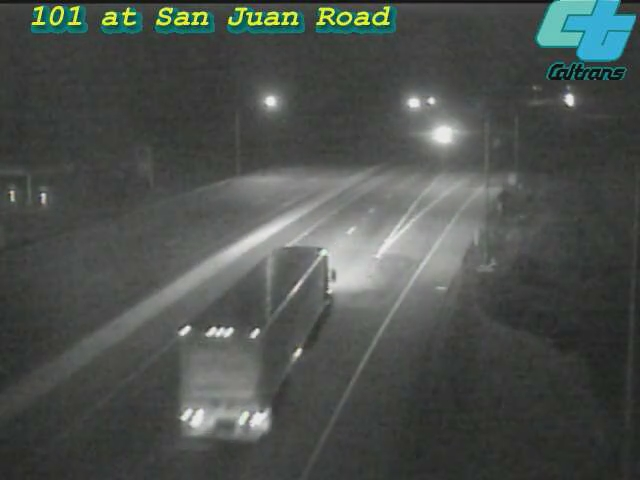vehicle: (208, 275, 318, 385), (418, 109, 468, 159)
